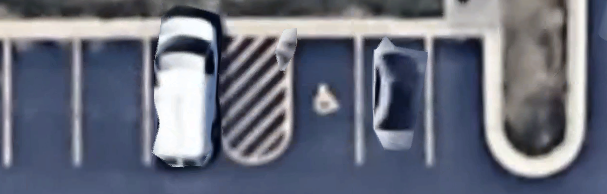Occupied: (146, 36, 219, 164), (359, 36, 430, 165)
Vacant: (6, 34, 78, 165), (77, 35, 147, 164), (291, 36, 359, 165), (429, 37, 491, 165)
